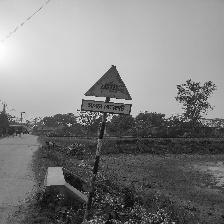Rail-crossing: (83, 66, 133, 116)
